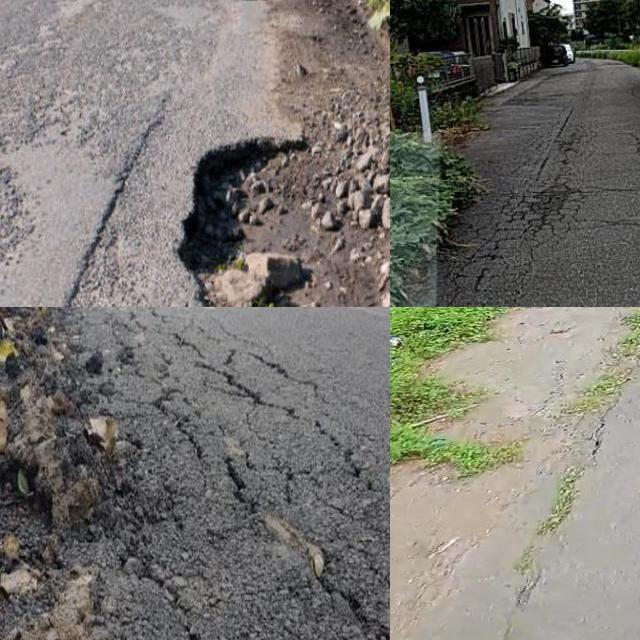Pinggir: (0, 307, 173, 640), (150, 124, 352, 307), (440, 307, 640, 425)
